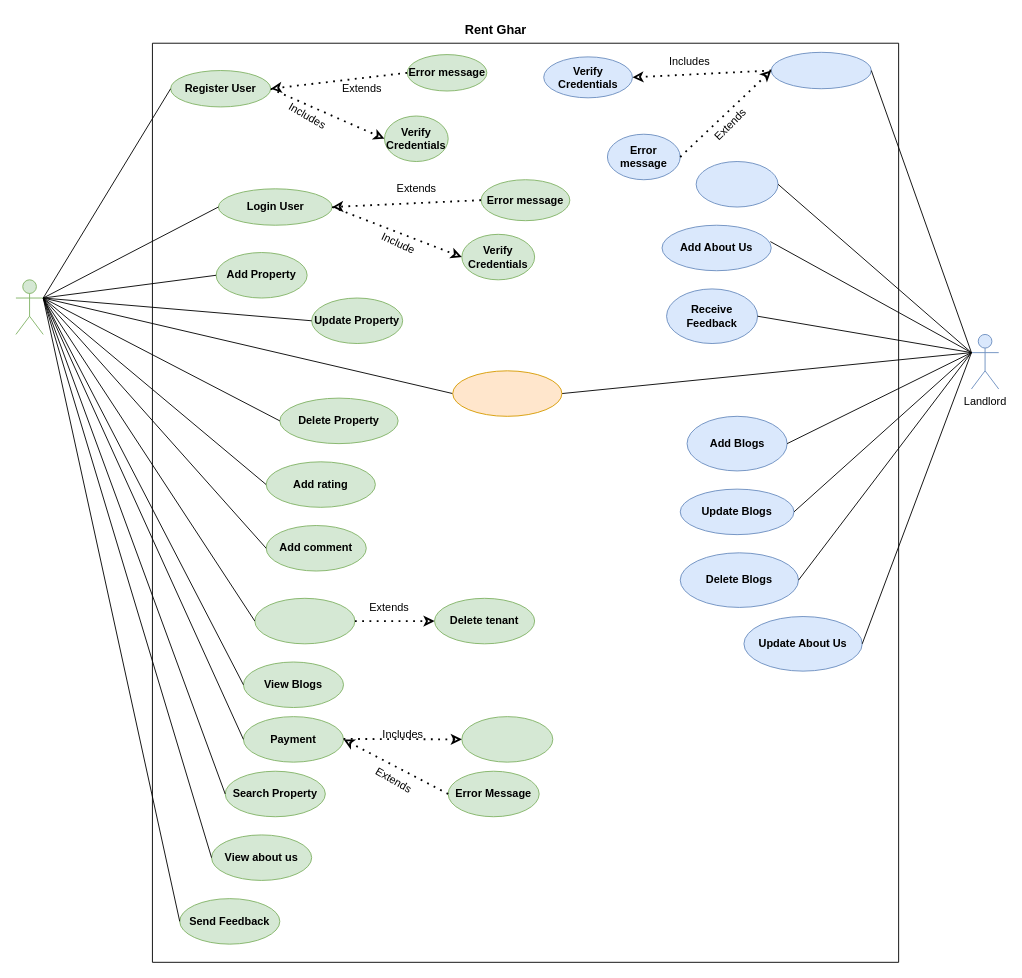
This 1022x978 diagram has some shape labels left out. The centre of each missing label's shape, as x and y in pixels:
"Add tenant" belongs at pixel 304 620.
"Approve Property" belongs at pixel 736 184.
"Login Admin" belongs at pixel 820 70.
"User" belongs at pixel 29 306.
"Verify Payment" belongs at pixel 507 739.
"View Property" belongs at pixel 507 393.
